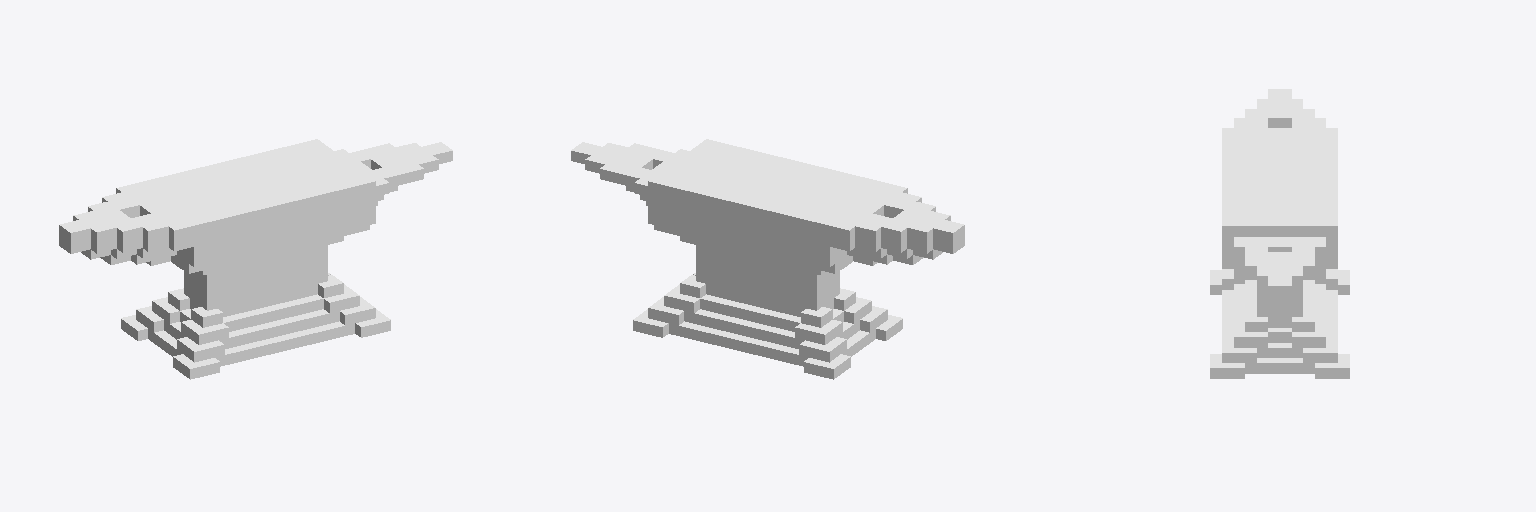
Rendered from Anvil01.obj.
3 renders of one model, left to right at view 1: azimuth 30°, elevation 25°; view 2: azimuth 150°, elevation 25°; view 3: azimuth 270°, elevation 25°, orthographic.
Parts seen in each view (by area): view 1: object 1; view 2: object 1; view 3: object 1.
Part boxes in pixels (x1,y1,x2,y2): object 1: (59,139,452,379); object 1: (571,139,964,379); object 1: (1210,89,1349,378).
Size of the model in its own units: 3.8 by 1.4 by 1.2.